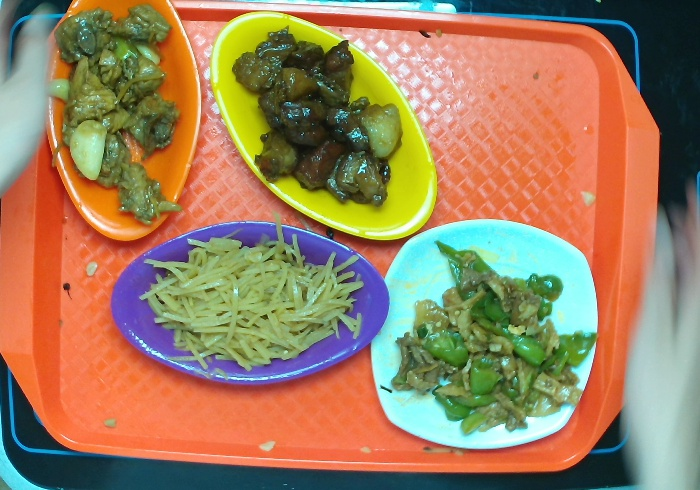RJxy-Fen_Hong_Tuo_Yuan: (112, 217, 393, 382)
RJxy-Huang_Se_Tuo_Yuan: (211, 12, 441, 243)
RJxy-Ju_Huang_Tuo_Yuan: (40, 4, 203, 242)
RJxy-Si_Fang_Die: (367, 212, 605, 449)
